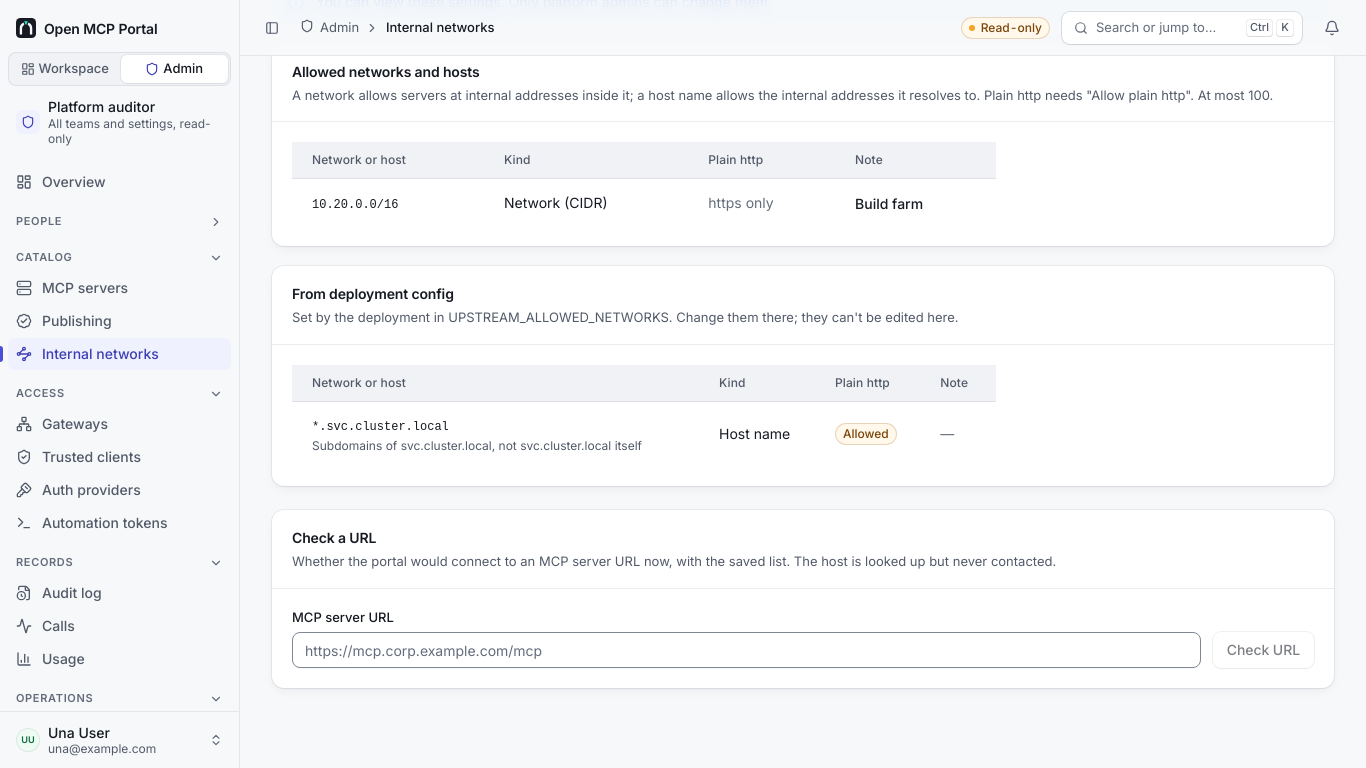
Test: Admin → Internal networks › is read-only for auditors, who can still check a URL
(page scrolled)
Type "https://rebind.corp.example.com/mcp" into the field labelled "MCP server URL".
click(746, 650); type("https://rebind.corp.example.com/mcp")  # box [292,632,1201,668]
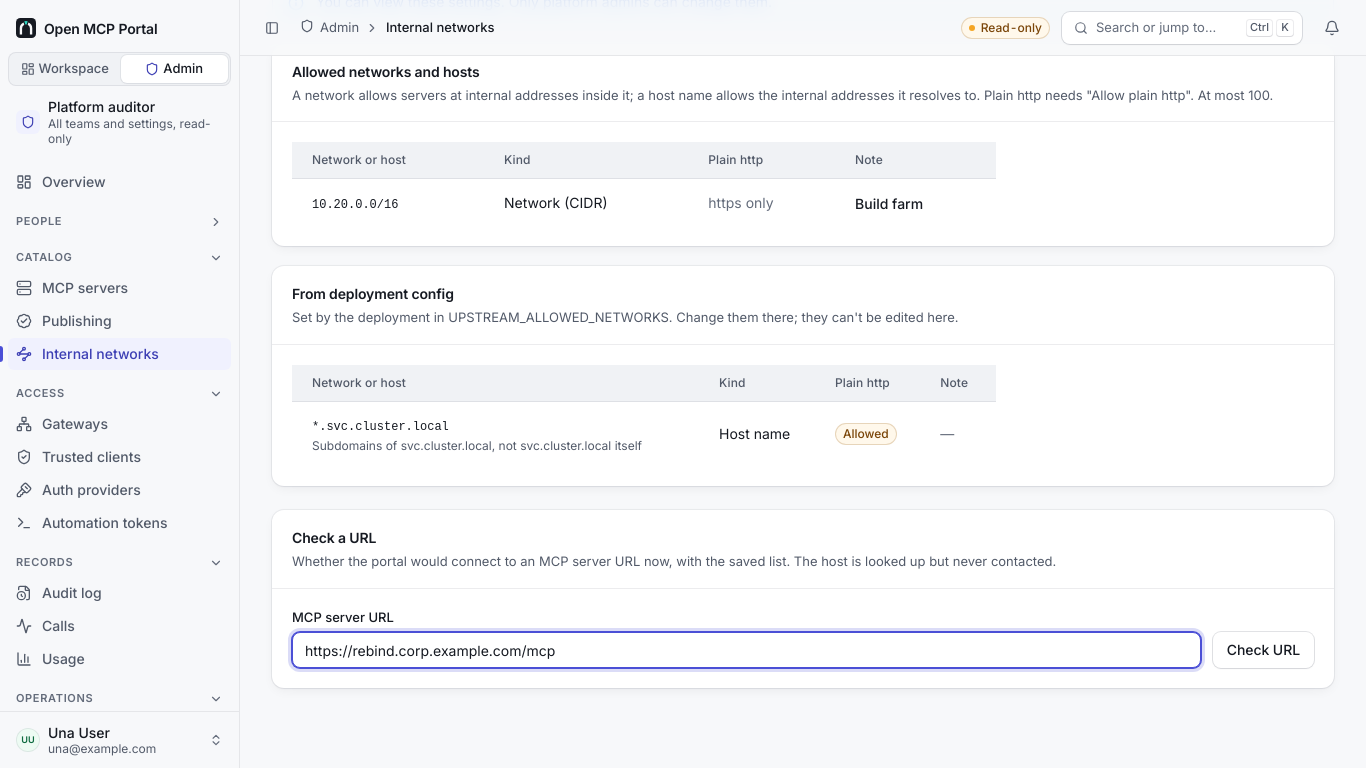
Click the button "Check URL".
click(1263, 650)  # box [1213,632,1314,668]
(page scrolled)
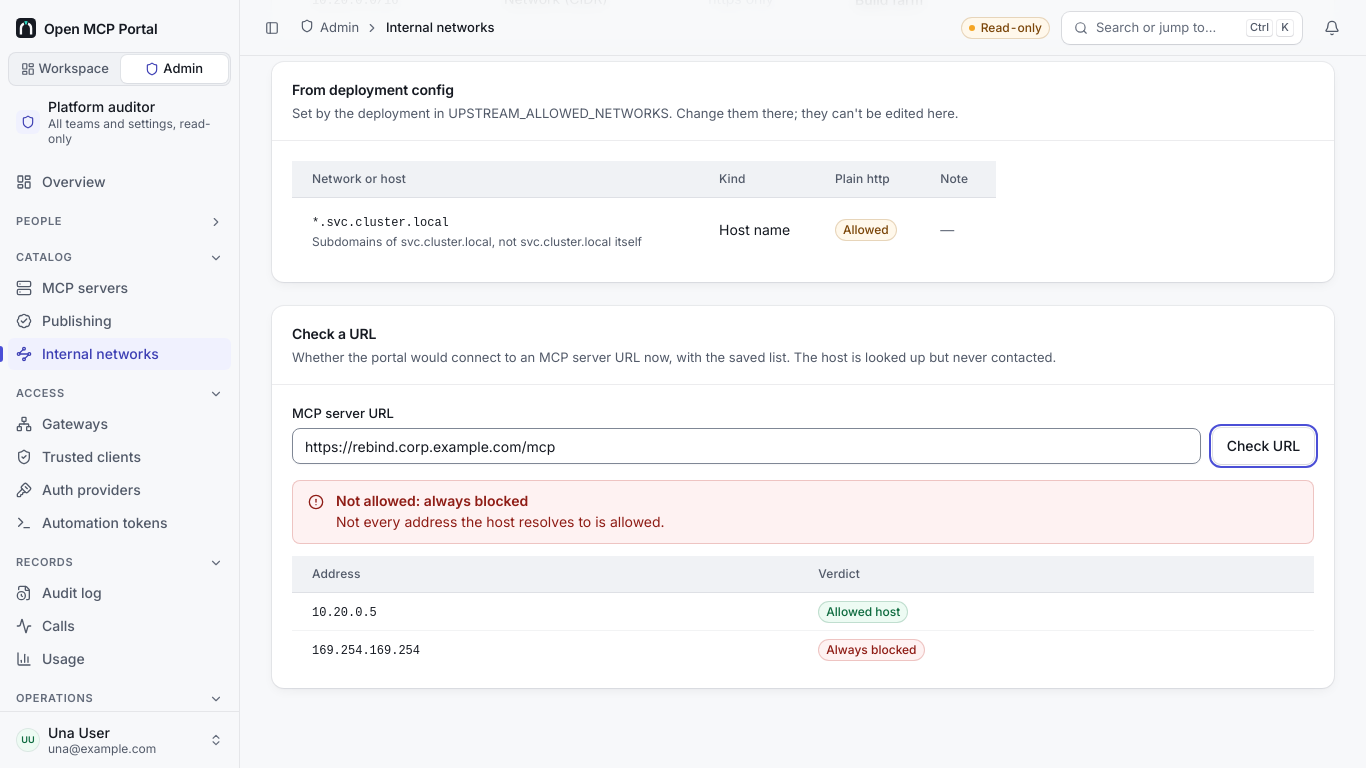
Expected: the text "Not allowed: always blocked" is shown, [336,492,528,509]
Expected: the text "169.254.169.254" shows "Always blocked", [826,642,916,657]
Expected: the text "10.20.0.5" shows "Allowed host", [826,604,900,619]
